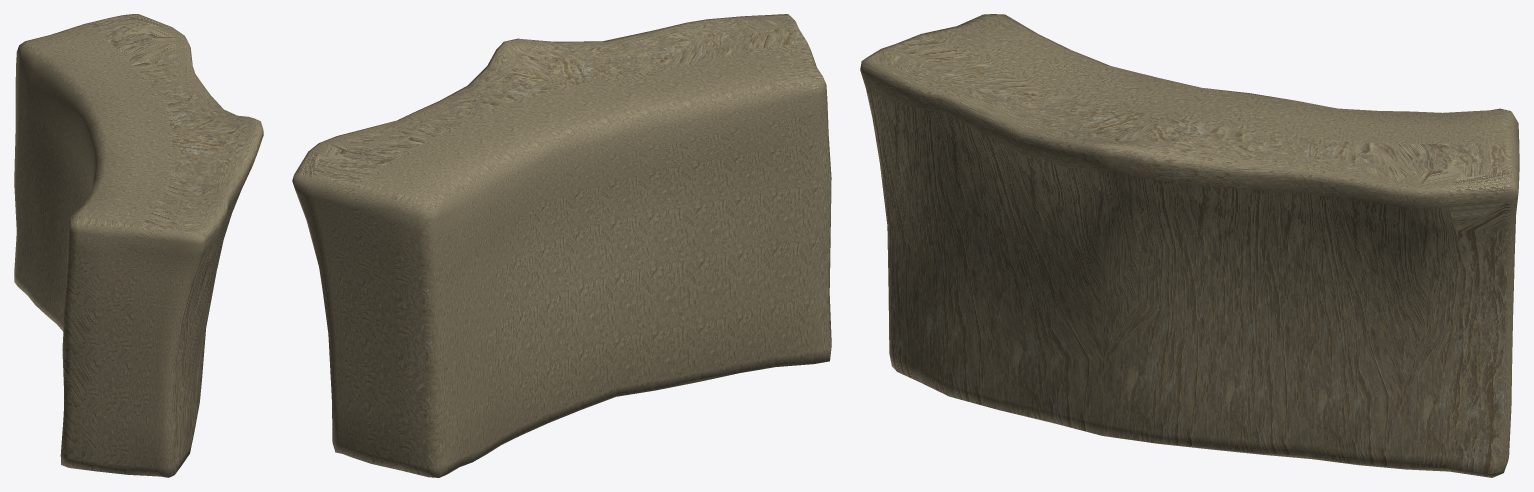
Rendered from saltmine_cliff_turn_01.dae.
The picture shows the model from 3 angles, left to right: view 1: azimuth 30°, elevation 25°; view 2: azimuth 150°, elevation 25°; view 3: azimuth 270°, elevation 25°; orthographic projection. The views are drawn at different scales.
Visible parts, largest first — view 1: cliff_turn_2; view 2: cliff_turn_2; view 3: cliff_turn_2.
Boxes of the visible parts, x1,y1,x2,y2 form: cliff_turn_2: (14,14,263,477); cliff_turn_2: (292,14,831,477); cliff_turn_2: (860,14,1519,477).
Bounding box in the file's own units: 4.61 × 3.96 × 7.02.
